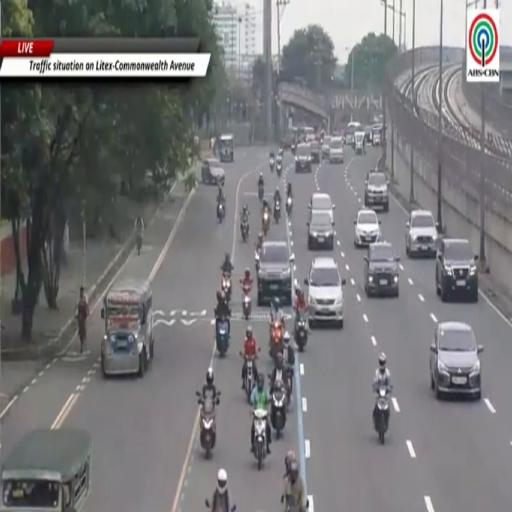car: (430, 322, 483, 399), (304, 258, 345, 328), (436, 238, 478, 301), (255, 242, 294, 306), (364, 242, 399, 296), (406, 209, 438, 257), (307, 211, 334, 249), (364, 171, 389, 212), (354, 208, 380, 247), (309, 192, 335, 219), (201, 158, 224, 184), (295, 143, 311, 172), (329, 137, 344, 164), (310, 140, 322, 163), (353, 132, 365, 155), (372, 124, 382, 147), (345, 126, 355, 147), (322, 136, 331, 157), (366, 167, 379, 181), (364, 125, 372, 143)
jeepney: (0, 429, 92, 511), (101, 280, 154, 376), (220, 135, 233, 162), (354, 132, 365, 154)
motorcycle: (197, 392, 220, 459), (373, 386, 391, 444), (253, 409, 267, 470), (271, 387, 287, 439), (240, 351, 255, 403), (215, 317, 230, 357), (270, 322, 282, 363), (295, 315, 307, 351), (221, 272, 232, 302), (285, 364, 293, 405), (243, 286, 251, 319), (285, 495, 301, 511), (262, 210, 270, 235), (241, 218, 249, 242), (217, 203, 225, 222), (136, 232, 142, 255), (274, 201, 280, 222), (255, 249, 260, 273), (286, 197, 292, 216), (258, 185, 264, 203), (276, 163, 282, 178), (205, 500, 213, 510), (291, 143, 296, 155), (270, 158, 274, 171)
